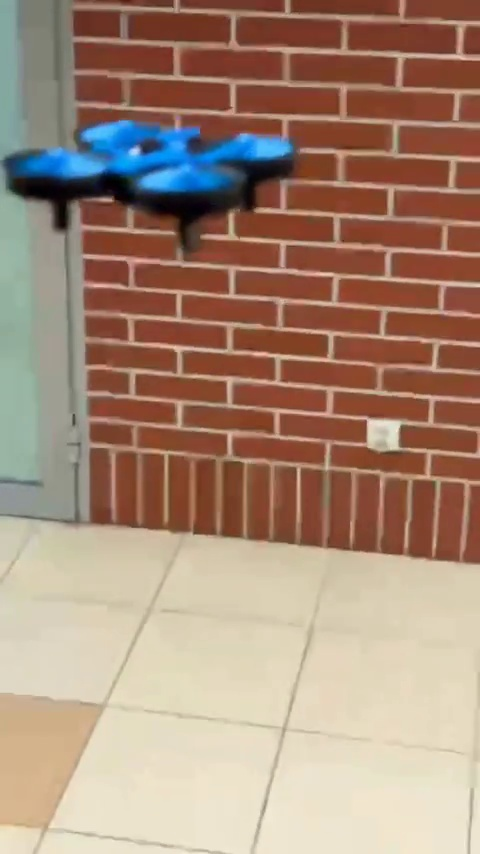drone: (5, 121, 295, 243)
